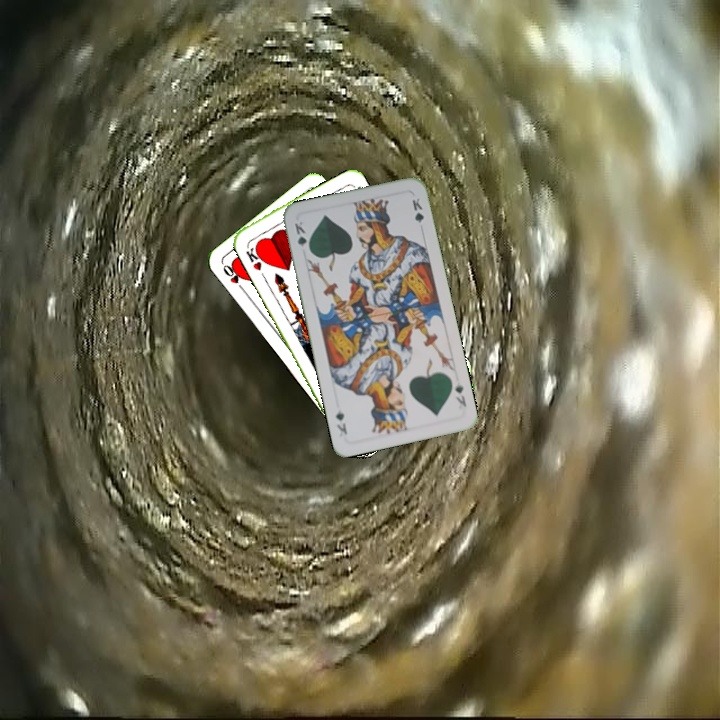GK: (290, 217, 313, 255), (451, 378, 469, 409)
HK: (242, 241, 268, 273)
HO: (219, 260, 248, 295)
